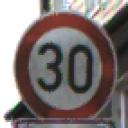speed_limit_30: (11, 10, 121, 124)
